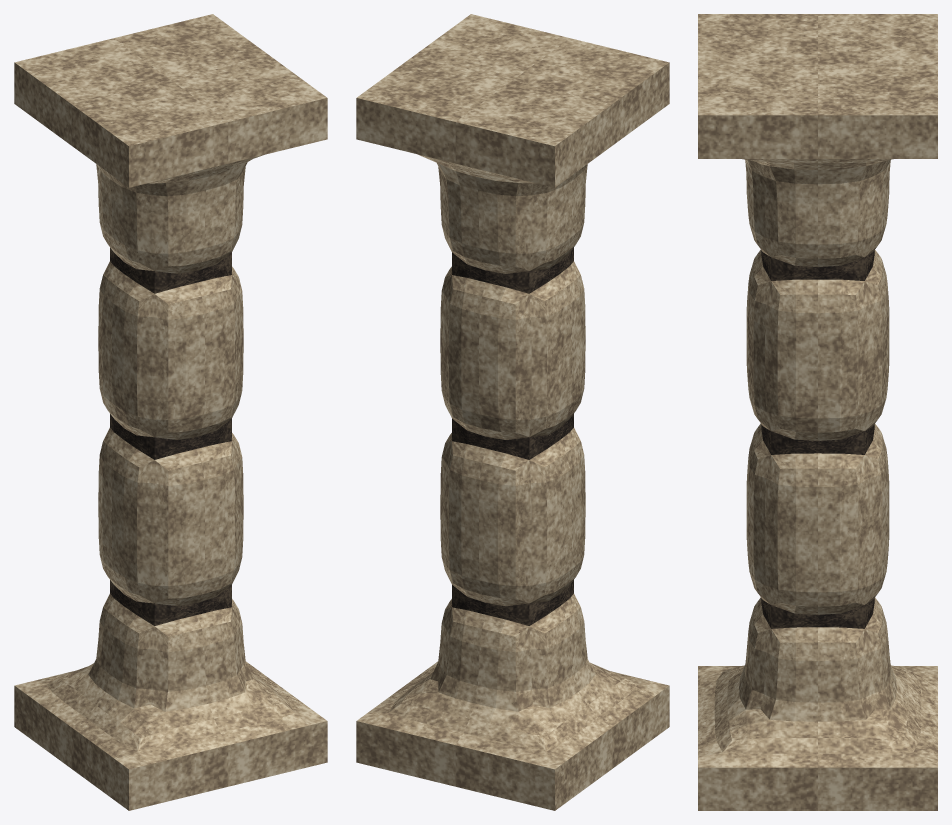
Rendered from pillar.glb.
3 views of the same model, side by side, from view 1: azimuth 30°, elevation 25°; view 2: azimuth 150°, elevation 25°; view 3: azimuth 270°, elevation 25° (orthographic). The views are drawn at different scales.
Parts seen in each view (by area): view 1: crypt_pillar; view 2: crypt_pillar; view 3: crypt_pillar.
Part boxes in pixels (x1,y1,x2,y2): crypt_pillar: (14,14,327,810); crypt_pillar: (356,14,669,810); crypt_pillar: (698,14,937,810).
Bounding box in the file's own units: 0.625 × 2 × 0.625.
1 material, 1 textured.
